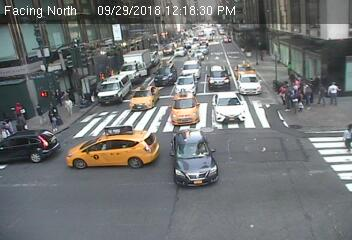car: (66, 126, 159, 169), (168, 127, 220, 188), (1, 129, 61, 164), (210, 92, 249, 125), (118, 48, 153, 81), (93, 74, 131, 102), (172, 91, 200, 127), (131, 84, 161, 110), (206, 64, 232, 90), (170, 74, 200, 95), (236, 73, 263, 94), (232, 58, 259, 79), (154, 61, 176, 85), (181, 60, 202, 79), (174, 45, 187, 58), (191, 49, 203, 60), (162, 45, 174, 55), (198, 36, 210, 45), (199, 45, 209, 53), (223, 36, 234, 43)
